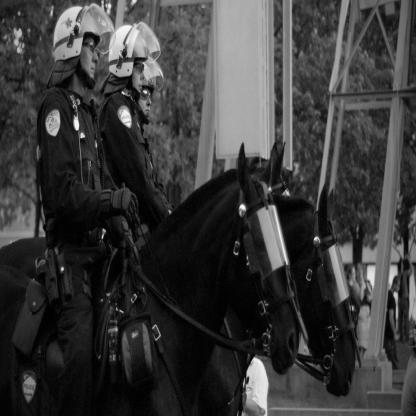Helmet: (51, 3, 116, 94), (108, 16, 159, 98), (137, 61, 165, 124)
